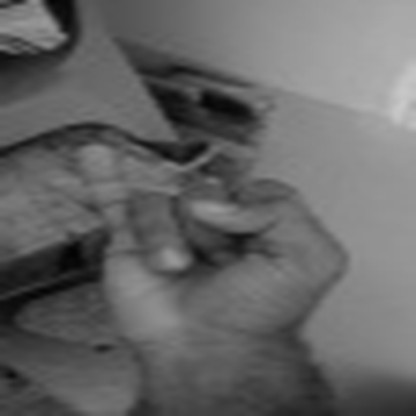i: (67, 138, 349, 341)
